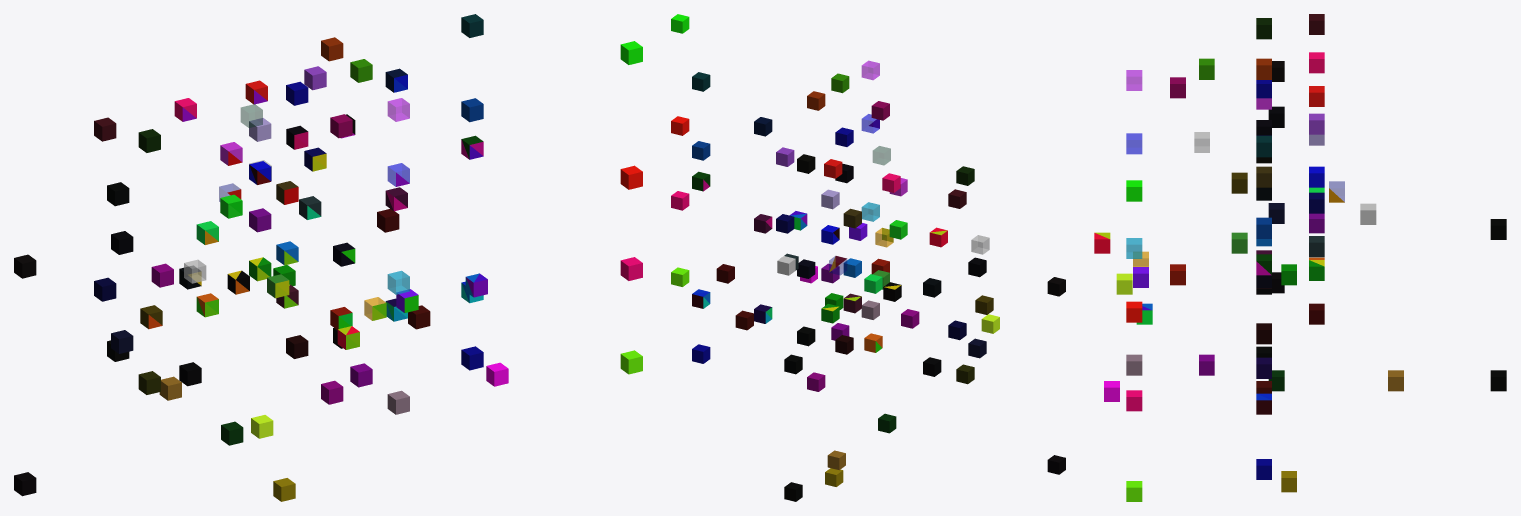
File: testcubemodel8.obj
3 renders of one model, left to right at view 1: azimuth 30°, elevation 25°; view 2: azimuth 150°, elevation 25°; view 3: azimuth 270°, elevation 25°, orthographic. The views are drawn at different scales.
Bounding box in the file's own units: 7737 × 6164 × 5198.
